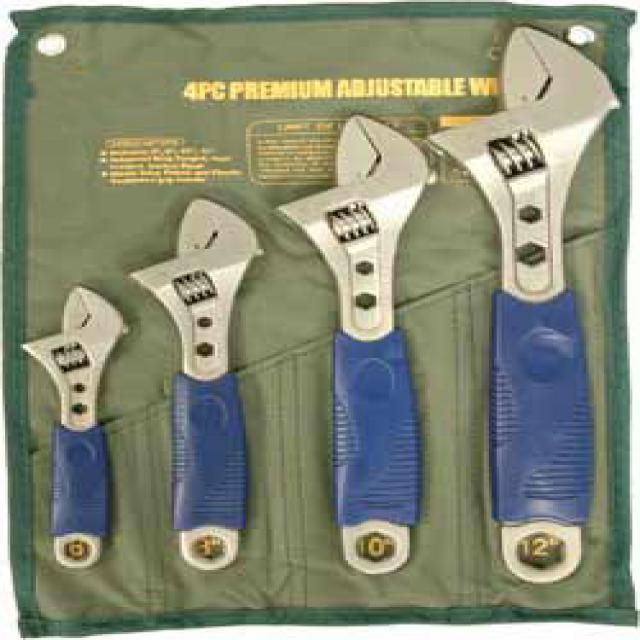wrench: (415, 13, 632, 592), (274, 109, 450, 581), (125, 192, 276, 580), (13, 282, 138, 574)
